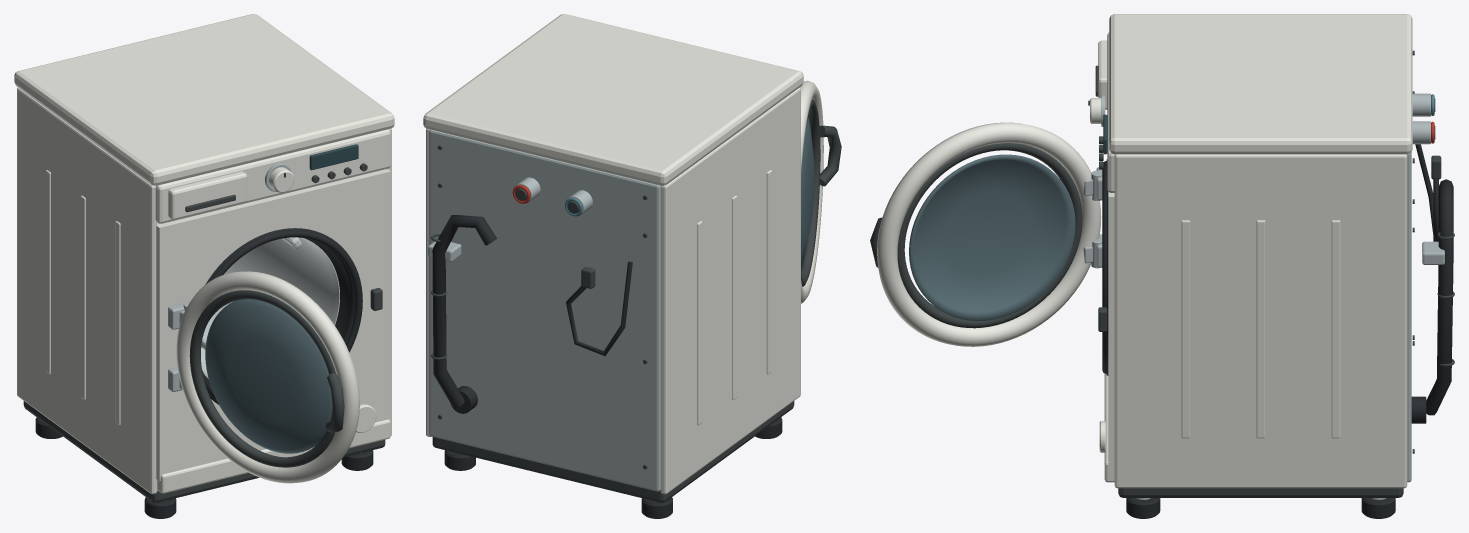
The model's file is city-front-loading-washing-machine.glb.
The picture shows the model from 3 angles, left to right: view 1: azimuth 30°, elevation 25°; view 2: azimuth 150°, elevation 25°; view 3: azimuth 270°, elevation 25°; orthographic projection. The views are drawn at different scales.
Parts seen in each view (by area): view 1: Assembly | Warm white appliance enamel, Assembly | Opaque smoky door window representation, Assembly | Dark mechanical housings, Assembly | Graphite rubber and grips, Assembly | Satin stainless drum and hardware, Assembly | Satin structural steel, Assembly | Inactive dark control display; view 2: Assembly | Warm white appliance enamel, Assembly | Satin structural steel, Assembly | Dark mechanical housings, Assembly | Graphite rubber and grips, Assembly | Opaque smoky door window representation; view 3: Assembly | Warm white appliance enamel, Assembly | Opaque smoky door window representation, Assembly | Dark mechanical housings, Assembly | Graphite rubber and grips, Assembly | Satin structural steel.
Part boxes in pixels (x1,y1,x2,y2): Assembly | Warm white appliance enamel: (14, 14, 394, 494); Assembly | Opaque smoky door window representation: (205, 299, 332, 453); Assembly | Dark mechanical housings: (23, 163, 385, 502); Assembly | Graphite rubber and grips: (35, 228, 373, 518); Assembly | Satin stainless drum and hardware: (201, 237, 339, 378); Assembly | Satin structural steel: (168, 163, 291, 391); Assembly | Inactive dark control display: (309, 144, 358, 170); Assembly | Warm white appliance enamel: (423, 14, 823, 494); Assembly | Satin structural steel: (428, 129, 661, 491); Assembly | Dark mechanical housings: (431, 99, 841, 502); Assembly | Graphite rubber and grips: (432, 215, 782, 518); Assembly | Opaque smoky door window representation: (801, 118, 814, 266); Assembly | Warm white appliance enamel: (877, 14, 1412, 488); Assembly | Opaque smoky door window representation: (909, 154, 1075, 320); Assembly | Dark mechanical housings: (870, 50, 1454, 497); Assembly | Graphite rubber and grips: (1102, 144, 1453, 518); Assembly | Satin structural steel: (1083, 93, 1444, 499).
Bounding box in the file's own units: 0.6078 × 0.848 × 1.17.
